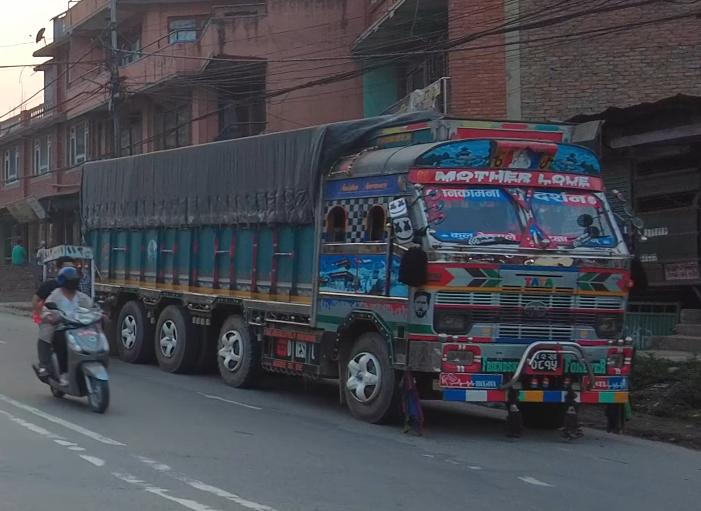scooter: (30, 294, 119, 419)
truck: (78, 110, 637, 433)
